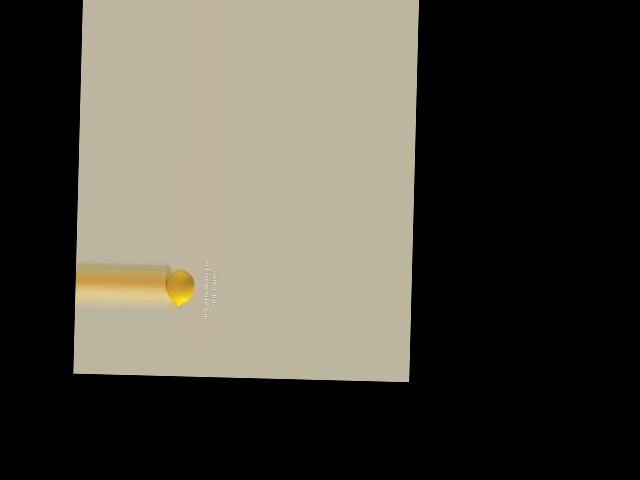lemon: (167, 267, 196, 306)
